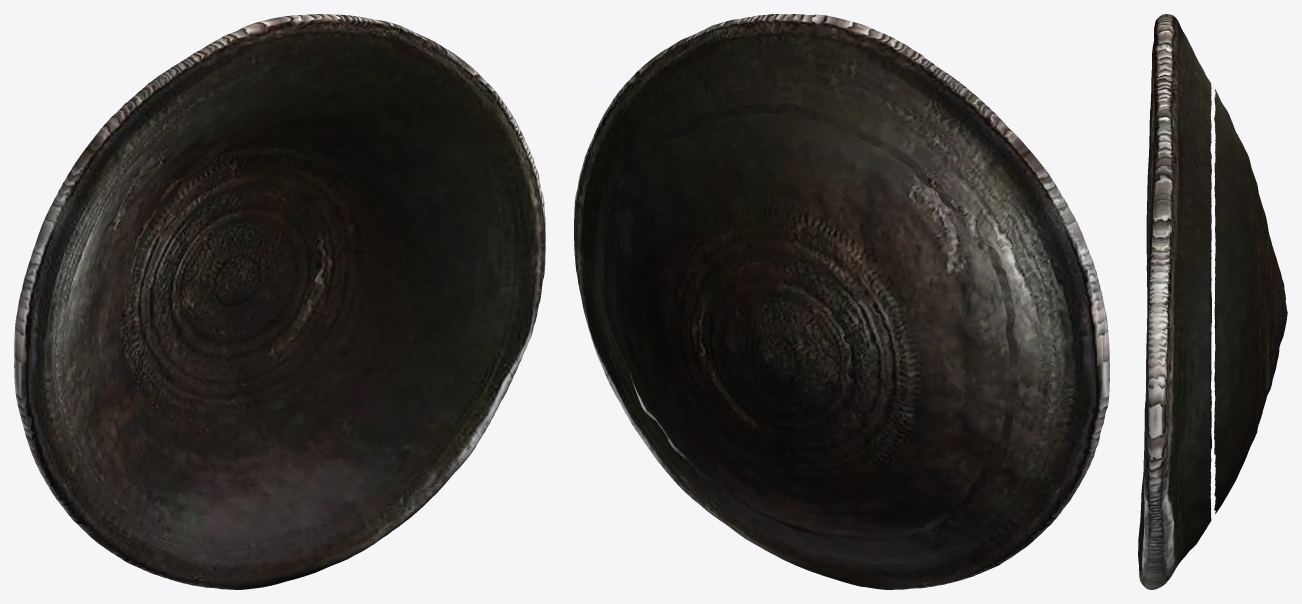
The model's file is kfl-2312.glb.
3 renders of one model, left to right at view 1: azimuth 30°, elevation 25°; view 2: azimuth 150°, elevation 25°; view 3: azimuth 270°, elevation 25°, orthographic. The views are drawn at different scales.
Parts seen in each view (by area): view 1: geometry_0; view 2: geometry_0; view 3: geometry_0.
Boxes of the visible parts, x1,y1,x2,y2 form: geometry_0: (14, 14, 545, 589); geometry_0: (574, 14, 1109, 589); geometry_0: (1138, 14, 1287, 589).
Size of the model in its own units: 0.9825 by 0.9955 by 0.256.
Materials: 1 (1 with a texture image).
